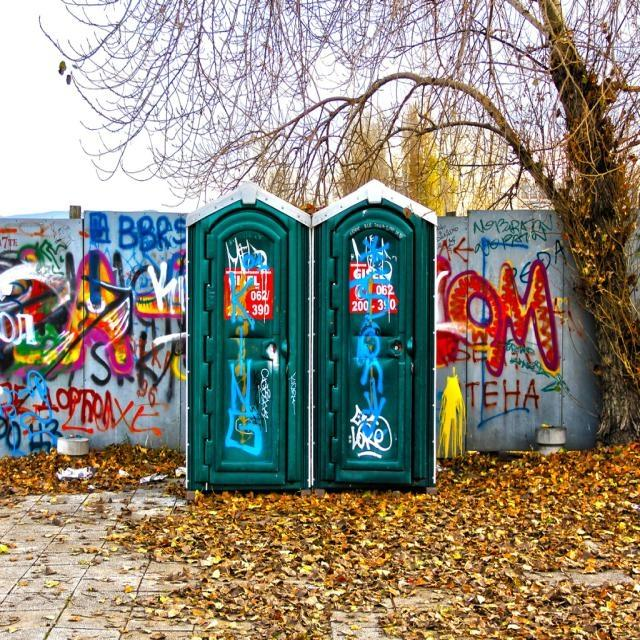door: (328, 206, 418, 482), (204, 204, 286, 481)
